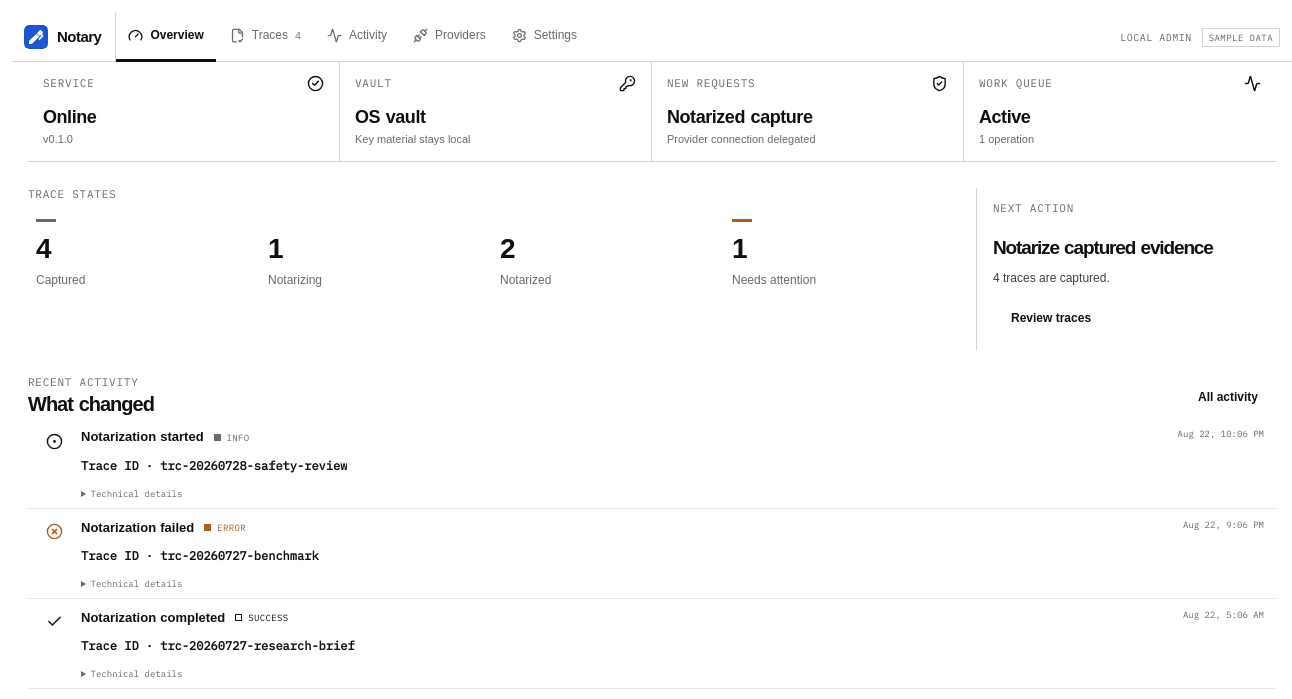
Notary admin dashboard › shows the four canonical trace counts and routes all of them to Traces
Click the button "1 Notarizing" at (376, 254), box [260,209,492,299]
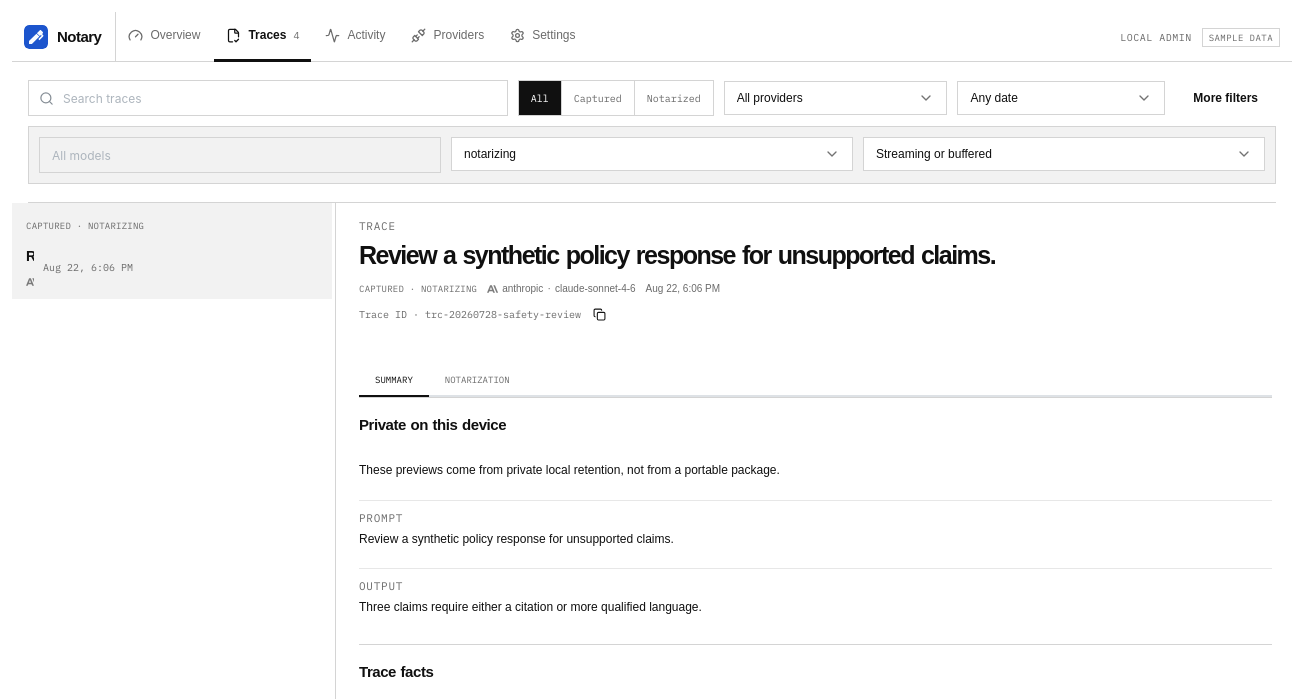
Expected: the field labelled "Search traces" is shown, [28,80,508,116]
